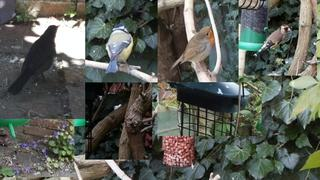blackbird: (7, 24, 61, 95)
blue tit: (105, 24, 134, 73)
goldfinch: (252, 24, 293, 59)
robin: (169, 24, 215, 74)
